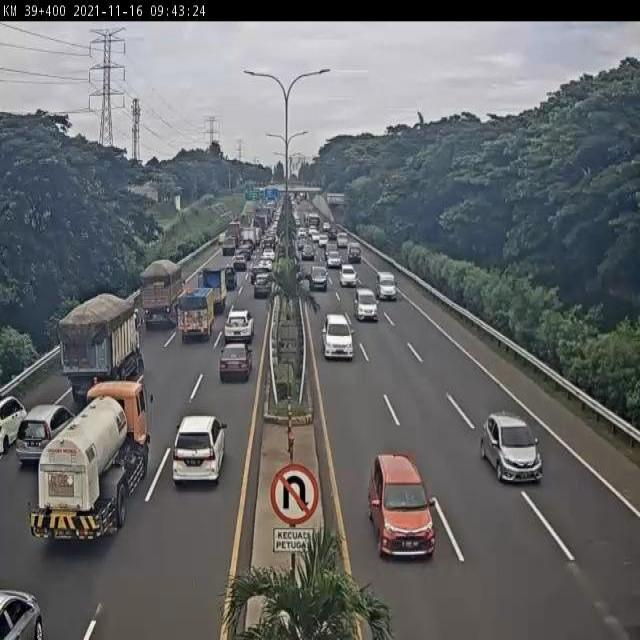Car: (367, 453, 436, 560), (480, 414, 543, 486), (172, 415, 228, 488), (16, 404, 75, 468), (0, 588, 43, 640), (0, 392, 28, 455), (320, 315, 356, 362), (220, 342, 253, 382), (225, 305, 255, 344), (353, 288, 380, 323), (308, 265, 329, 293), (338, 262, 359, 288), (253, 274, 273, 299), (224, 266, 238, 292), (324, 251, 344, 269), (300, 243, 316, 260)
Truck: (28, 378, 154, 539), (58, 292, 148, 402), (141, 259, 186, 332), (178, 287, 216, 343), (202, 267, 228, 315), (237, 228, 258, 248), (346, 242, 362, 264), (228, 222, 241, 240)
Van: (373, 270, 398, 304)
